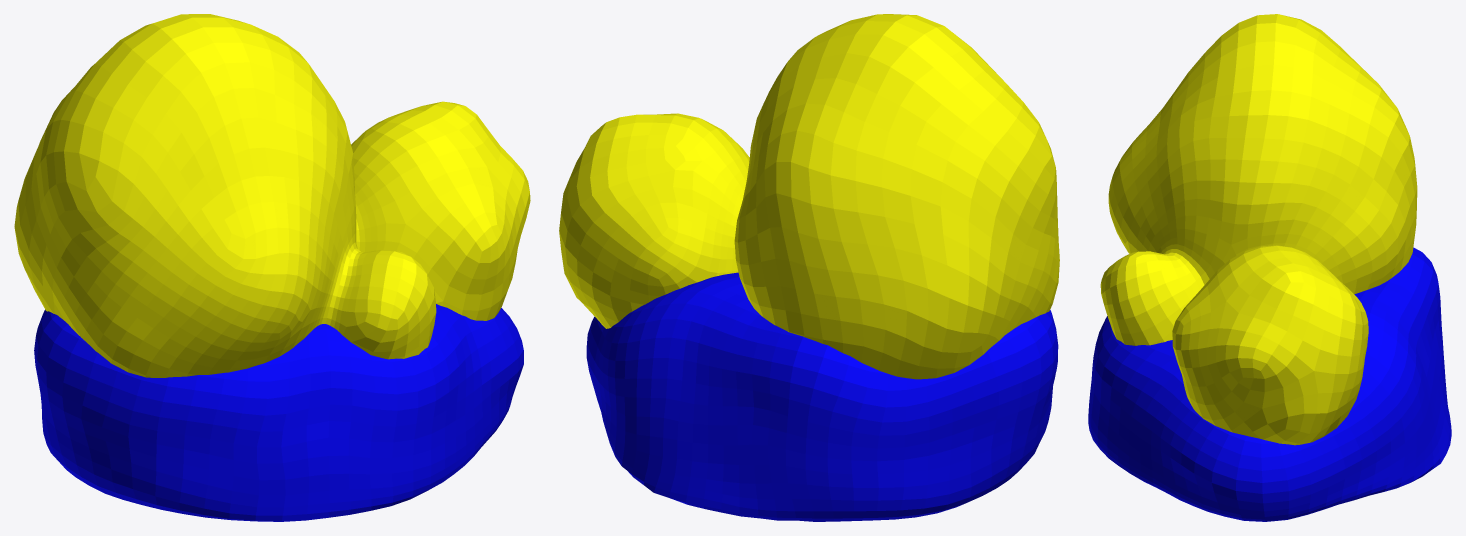
File: eggs_resized.fbx
3 renders of one model, left to right at view 1: azimuth 30°, elevation 25°; view 2: azimuth 150°, elevation 25°; view 3: azimuth 270°, elevation 25°, orthographic. The views are drawn at different scales.
Parts seen in each view (by area): view 1: eggs_model_Lp (×2); view 2: eggs_model_Lp (×2); view 3: eggs_model_Lp (×2).
Boxes of the visible parts, x1=… form: eggs_model_Lp (×2): x1=14, y1=14, x2=530, y2=521; eggs_model_Lp (×2): x1=559, y1=14, x2=1059, y2=521; eggs_model_Lp (×2): x1=1088, y1=14, x2=1451, y2=521.
Size of the model in its own units: 197 by 178 by 152.
